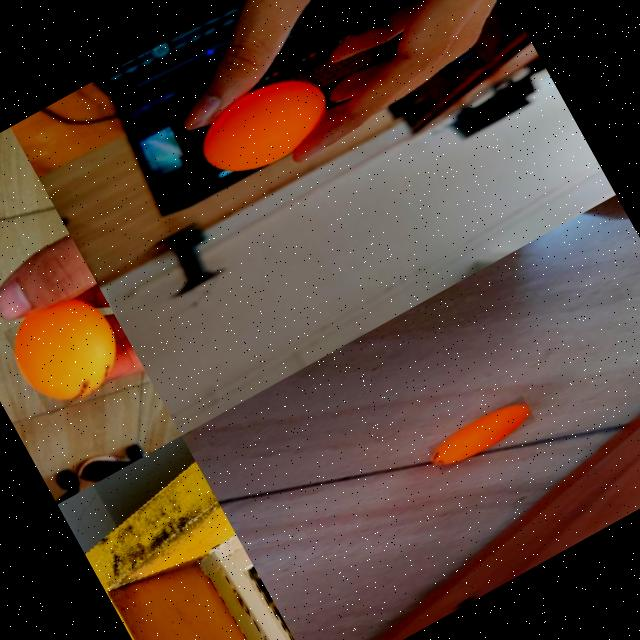ping-pong-ball: (188, 59, 342, 189), (0, 282, 136, 417), (425, 395, 535, 474)
